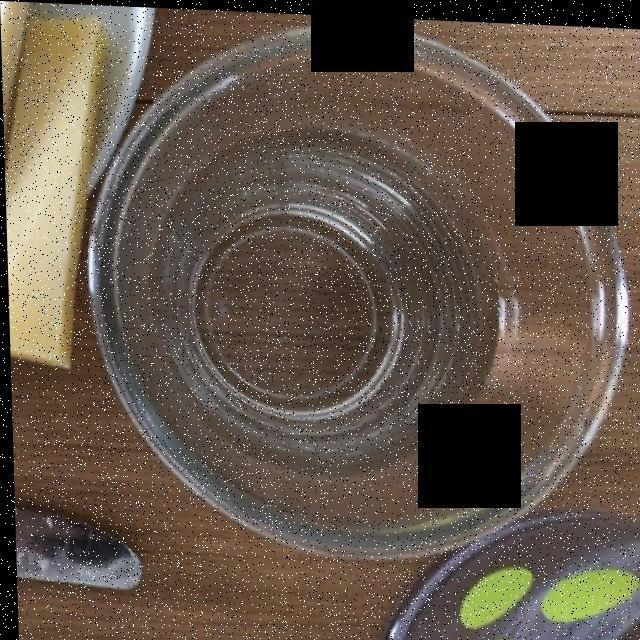water: (137, 123, 503, 469)
